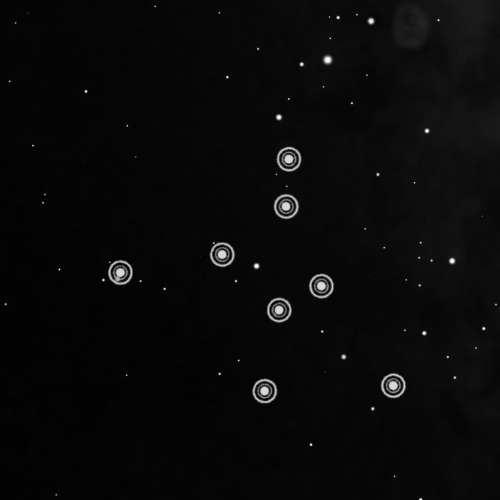hercules: (105, 141, 411, 410)
